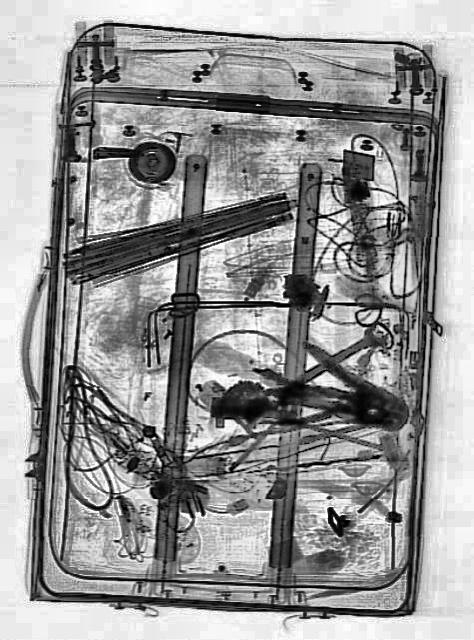Pliers: (281, 336, 417, 446)
Wrench: (289, 317, 389, 397)
